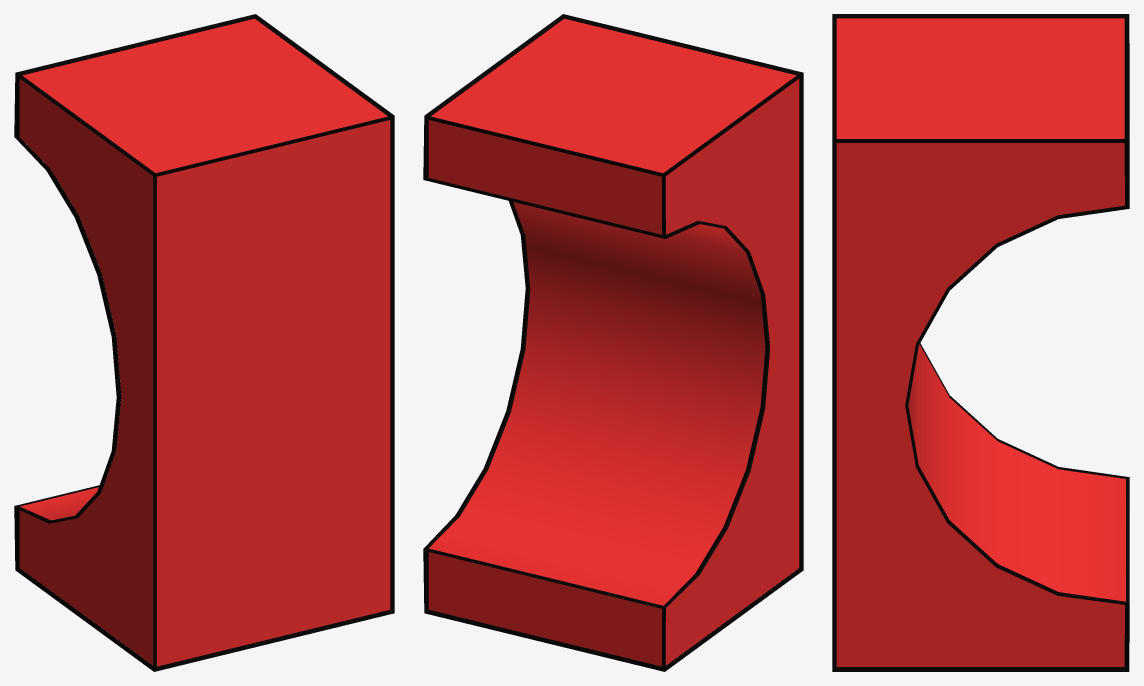
Rendered from arch_red.obj.
3 views of the same model, side by side, from view 1: azimuth 30°, elevation 25°; view 2: azimuth 150°, elevation 25°; view 3: azimuth 270°, elevation 25° (orthographic). The views are drawn at different scales.
Visible parts, largest first — view 1: arch, 2; view 2: arch, 2; view 3: arch, 2.
Part boxes in pixels (x1,y1,x2,y2): arch: (19,18,390,666); 2: (14,14,394,671); arch: (428,18,799,666); 2: (423,14,803,671); arch: (836,18,1125,666); 2: (832,14,1129,671).
Size of the model in its own units: 0.052 by 0.1012 by 0.0512.
